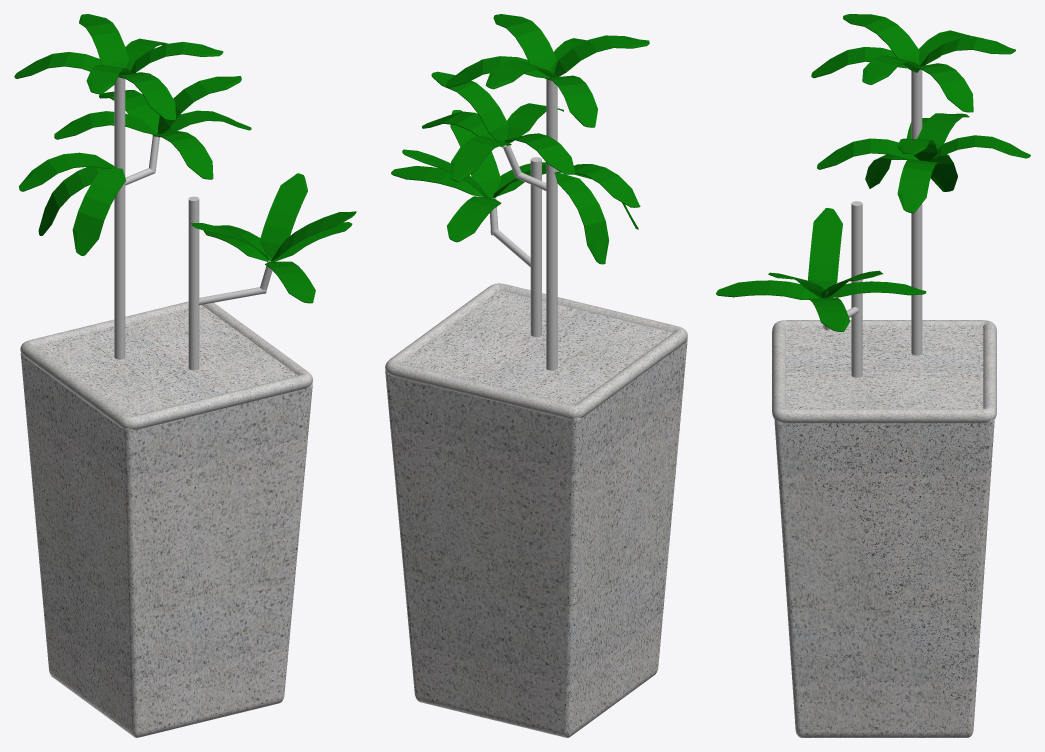
Rendered from plantpot.fbx.
The picture shows the model from 3 angles, left to right: view 1: azimuth 30°, elevation 25°; view 2: azimuth 150°, elevation 25°; view 3: azimuth 270°, elevation 25°; orthographic projection. The views are drawn at different scales.
Visible parts, largest first — view 1: Cube.002, Cylinder.010, Cylinder.005, Cube.011, Cube.008, Cylinder, Cube.023, Cube.010, Cube.012, Cube.013, Cube.014, Cube.018 (+11 smaller); view 2: Cube.002, Cylinder.010, Cylinder.005, Cylinder, Cube.012, Cube.013, Cube.021, Cube.020, Cube.022, Cube.005, Cube.015, Cube.010 (+8 smaller); view 3: Cube.002, Cylinder.010, Cylinder.005, Cube.007, Cylinder, Cube.022, Cube.017, Cube.004, Cube.019, Cube.014, Cube.018, Cube.015 (+9 smaller).
Boxes of the visible parts, left/top/right/bottom form: Cube.002: left=20, top=305, right=312, bottom=737; Cylinder.010: left=20, top=301, right=312, bottom=429; Cylinder.005: left=114, top=77, right=125, bottom=359; Cube.011: left=72, top=167, right=125, bottom=255; Cube.008: left=259, top=173, right=307, bottom=259; Cylinder: left=188, top=196, right=199, bottom=370; Cube.023: left=79, top=14, right=128, bottom=67; Cube.010: left=19, top=152, right=114, bottom=191; Cube.012: left=38, top=166, right=108, bottom=235; Cube.013: left=157, top=76, right=241, bottom=134; Cube.014: left=153, top=131, right=213, bottom=179; Cube.018: left=118, top=72, right=175, bottom=120; Cube.002: left=385, top=290, right=687, bottom=737; Cylinder.010: left=385, top=283, right=687, bottom=418; Cylinder.005: left=546, top=79, right=557, bottom=370; Cylinder: left=530, top=157, right=541, bottom=336; Cube.012: left=555, top=173, right=608, bottom=264; Cube.013: left=431, top=71, right=508, bottom=145; Cube.021: left=493, top=14, right=556, bottom=70; Cube.020: left=545, top=75, right=597, bottom=127; Cube.022: left=554, top=35, right=649, bottom=76; Cube.005: left=447, top=196, right=501, bottom=242; Cube.015: left=450, top=136, right=511, bottom=181; Cube.010: left=554, top=164, right=640, bottom=207; Cube.002: left=774, top=326, right=994, bottom=737; Cylinder.010: left=772, top=320, right=996, bottom=423; Cylinder.005: left=911, top=69, right=922, bottom=355; Cube.007: left=808, top=208, right=842, bottom=289; Cylinder: left=851, top=201, right=862, bottom=377; Cube.022: left=843, top=14, right=919, bottom=64; Cube.017: left=897, top=159, right=937, bottom=213; Cube.004: left=716, top=280, right=820, bottom=299; Cube.019: left=912, top=63, right=973, bottom=112; Cube.014: left=817, top=138, right=919, bottom=169; Cube.018: left=811, top=47, right=909, bottom=78; Cube.015: left=930, top=135, right=1030, bottom=159.
Size of the model in its own units: 45.3 by 97.01 by 42.7.
